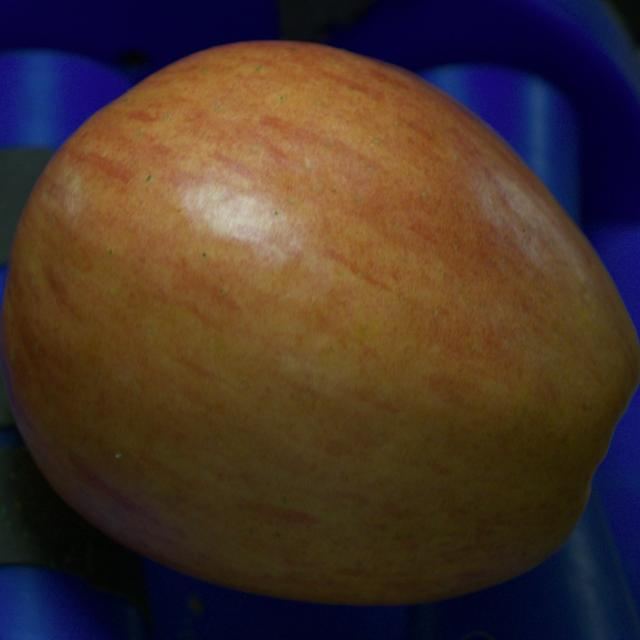apple: (0, 42, 639, 604)
